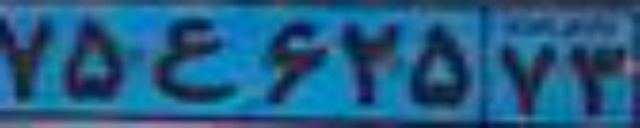2: (337, 20, 399, 104)
3: (568, 45, 631, 116)
5: (407, 22, 475, 108), (65, 13, 125, 102)
6: (259, 18, 331, 104)
7: (493, 41, 563, 115), (1, 12, 55, 102)
ain: (149, 16, 238, 103)
